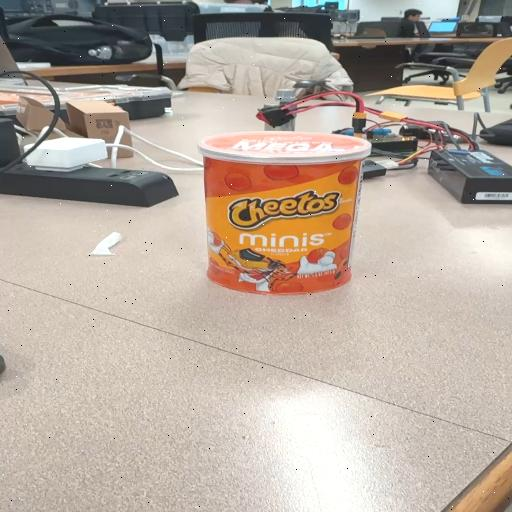pringles: (200, 132, 370, 293)
